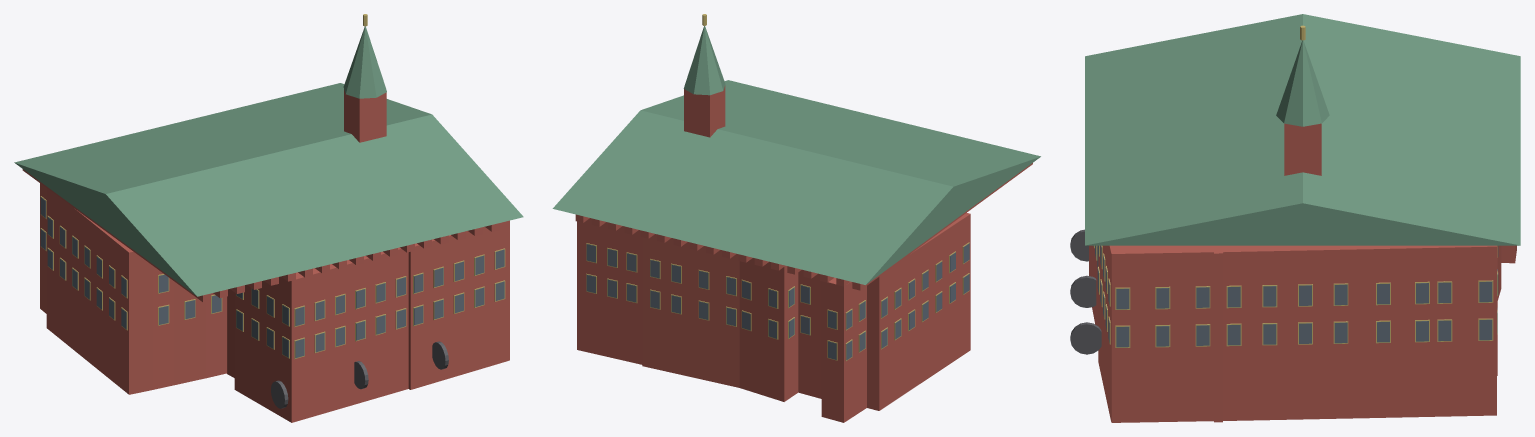
The model's file is landmark-basel-rathaus.06ef7df369.glb.
3 views of the same model, side by side, from view 1: azimuth 30°, elevation 25°; view 2: azimuth 150°, elevation 25°; view 3: azimuth 270°, elevation 25° (orthographic). The views are drawn at different scales.
Visible parts, largest first — view 1: building; view 2: building; view 3: building.
Boxes of the visible parts, left/top/right/bottom form: building: left=14, top=14, right=523, bottom=422; building: left=552, top=14, right=1040, bottom=422; building: left=1070, top=14, right=1520, bottom=422.
Size of the model in its own units: 48.05 by 42.5 by 48.34.
